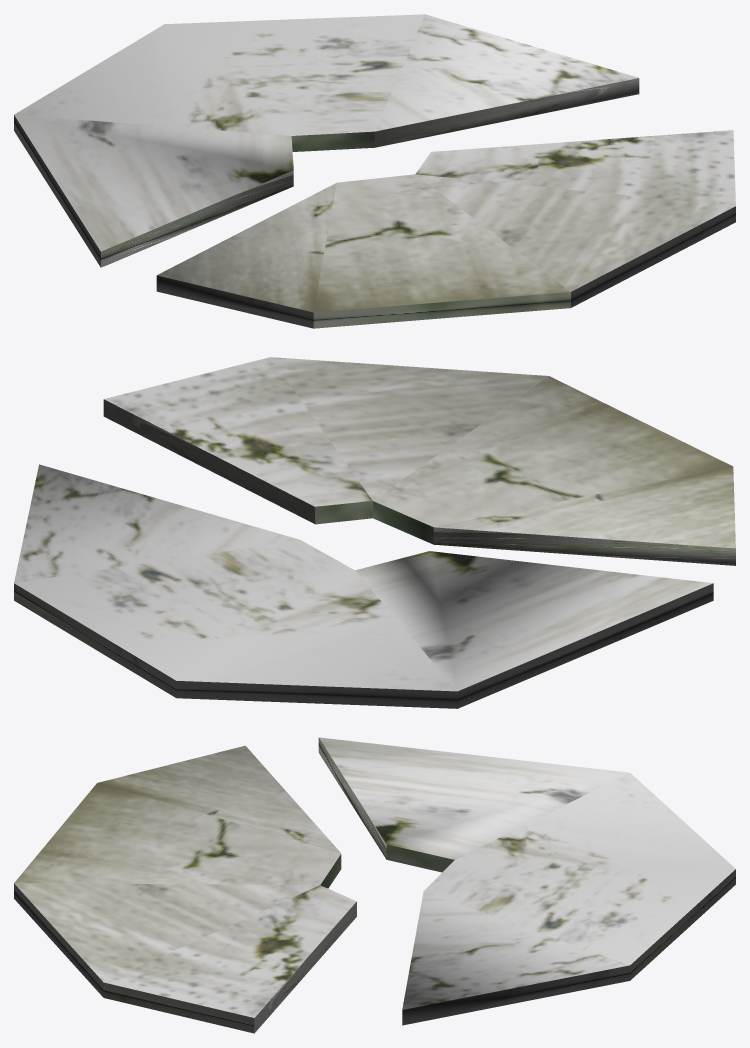
3 renders of one model, top to bottom at view 1: azimuth 30°, elevation 25°; view 2: azimuth 150°, elevation 25°; view 3: azimuth 270°, elevation 25°, orthographic. The views are drawn at different scales.
Visible parts, largest first — view 1: cd_01; view 2: cd_01; view 3: cd_01.
Part boxes in pixels (x1,y1,x2,y2): cd_01: (14, 14, 735, 328); cd_01: (14, 357, 735, 708); cd_01: (14, 737, 735, 1033).
Size of the model in its own units: 0.1305 by 0.00336 by 0.1419.
